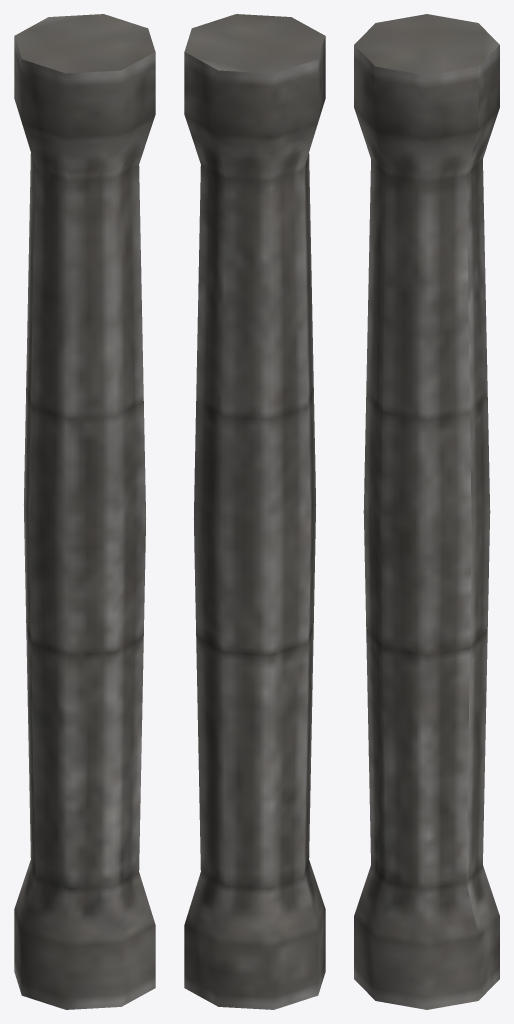
File: PIllar.fbx
The picture shows the model from 3 angles, left to right: view 1: azimuth 30°, elevation 25°; view 2: azimuth 150°, elevation 25°; view 3: azimuth 270°, elevation 25°; orthographic projection.
Parts seen in each view (by area): view 1: DefPillar; view 2: DefPillar; view 3: DefPillar.
Part boxes in pixels (<box>): DefPillar: <box>14,14,155,1009</box>; DefPillar: <box>184,14,325,1009</box>; DefPillar: <box>354,14,499,1009</box>.
Size of the model in its own units: 0.5652 by 4 by 0.5652.
